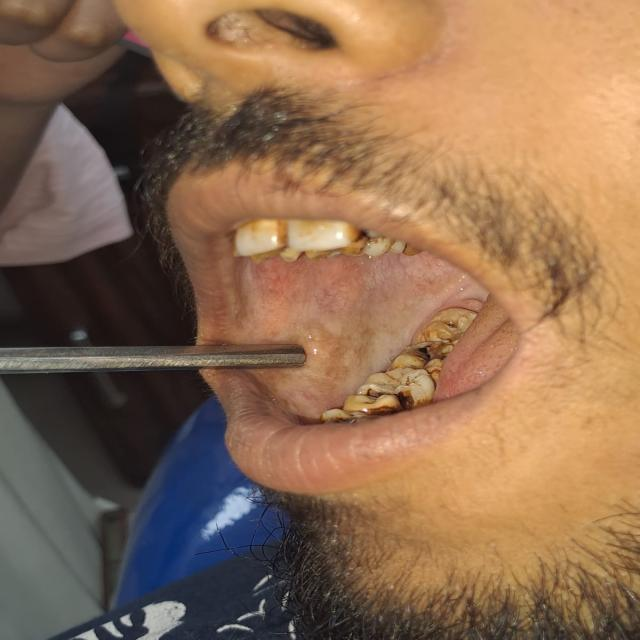leukoplakia-like-detection: (240, 258, 473, 415)
processing_area: (230, 257, 529, 423)
